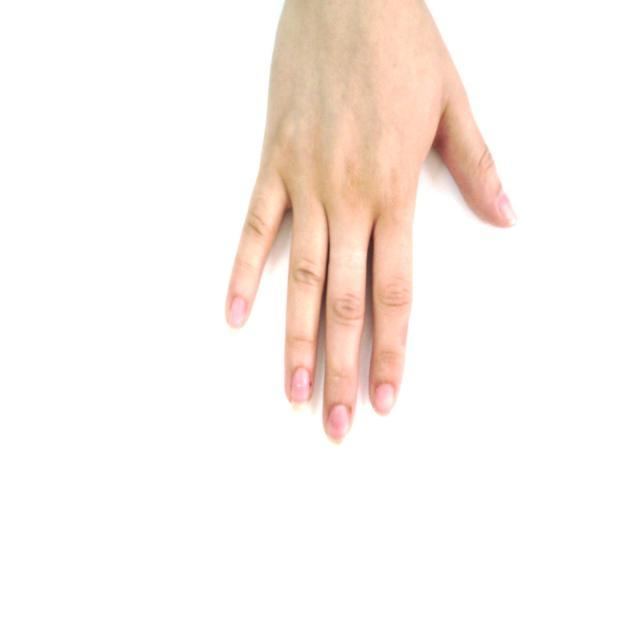Fingernail: (292, 368, 310, 408), (329, 406, 349, 437), (375, 384, 394, 412), (500, 193, 516, 223), (230, 298, 245, 327)
